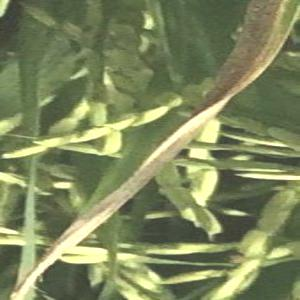2 BacterialBlight: (109, 124, 172, 198)
